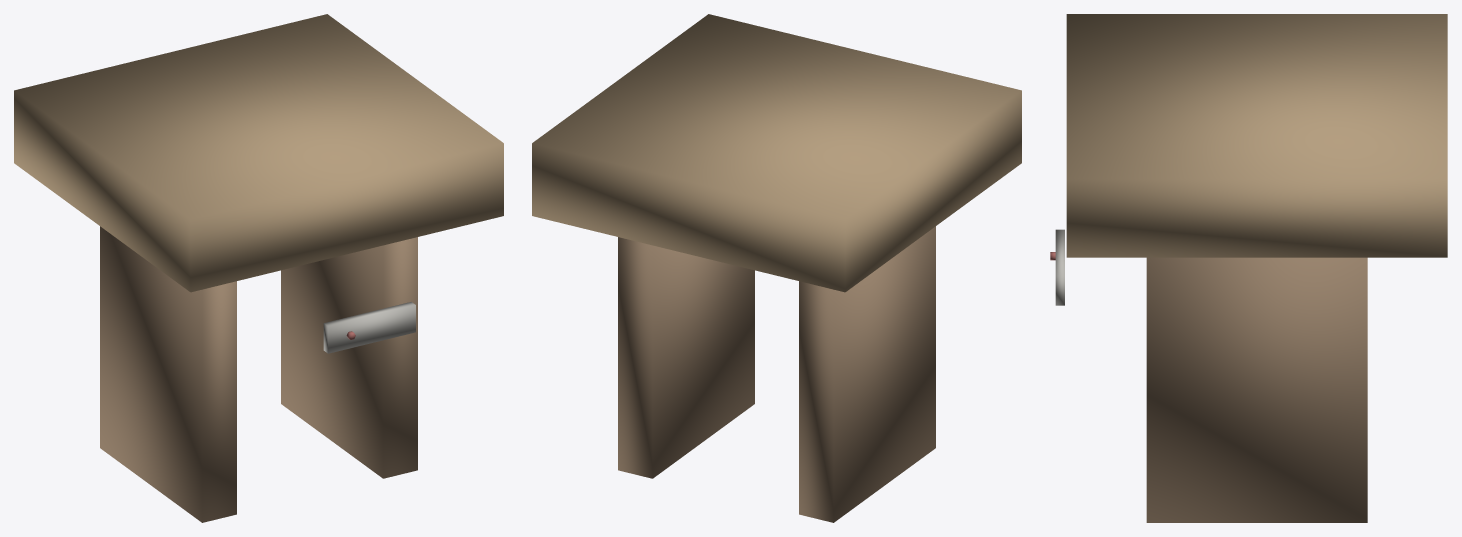
Rendered from butcher_block__deep.glb.
3 views of the same model, side by side, from view 1: azimuth 30°, elevation 25°; view 2: azimuth 150°, elevation 25°; view 3: azimuth 270°, elevation 25° (orthographic). The views are drawn at different scales.
Visible parts, largest first — view 1: world; view 2: world; view 3: world.
Boxes of the visible parts, <box> form: world: <box>14,14,503,522</box>; world: <box>532,14,1021,522</box>; world: <box>1050,14,1447,522</box>.
Bounding box in the file's own units: 0.9 × 0.94 × 0.9162.
